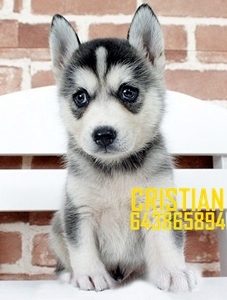husky: (39, 7, 175, 183)
